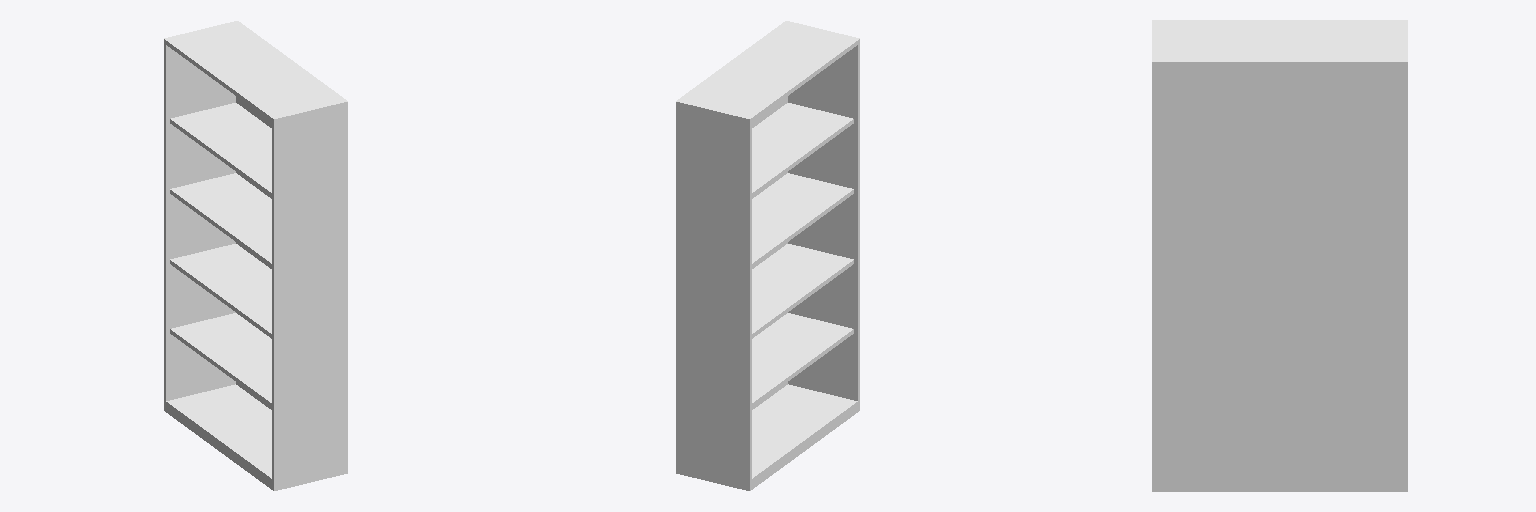
robot.urdf — lab_shelf.obj:
<robot name="lab_shelf.obj">
	<link name="_name">
		<visual>
			<origin xyz="0 0 0" rpy="0 0 0" />
			<geometry>
				<mesh filename="lab_shelf.obj" scale="0.001 0.001 0.001" />
			</geometry>
			<material name="texture">
				<color rgba="1.0 1.0 1.0 1.0" />
			</material>
		</visual>
		<collision>
			<geometry>
				<mesh filename="lab_shelf_vhacd.obj" scale="0.001 0.001 0.001" />
			</geometry>
		<origin xyz="0 0 0" rpy="0 0 0" /></collision>
		<inertial>
			<mass value="0.0" />
			<inertia ixx="1.0" ixy="0.0" ixz="0.0" iyy="1.0" iyz="0.0" izz="1.0" />
		</inertial>
	</link>
</robot>

--- Facts derived from the render (not from the file) ---
Views: 3 orthographic renders of the robot side by side, from view 1: azimuth 30°, elevation 25°; view 2: azimuth 150°, elevation 25°; view 3: azimuth 270°, elevation 25°.
Robot: lab_shelf.obj — 1 links, 0 joints (none); root link _name; default pose: every joint at zero.
Visible links, largest first — view 1: _name; view 2: _name; view 3: _name.
Link boxes in pixels (x1,y1,x2,y2): _name: (164,21,347,490); _name: (676,21,859,490); _name: (1152,20,1407,491).
Size in the robot's own frame: 0.353 by 0.91 by 1.69 metres.
1 mesh visuals loaded from 1 distinct referenced files (1 OBJ).